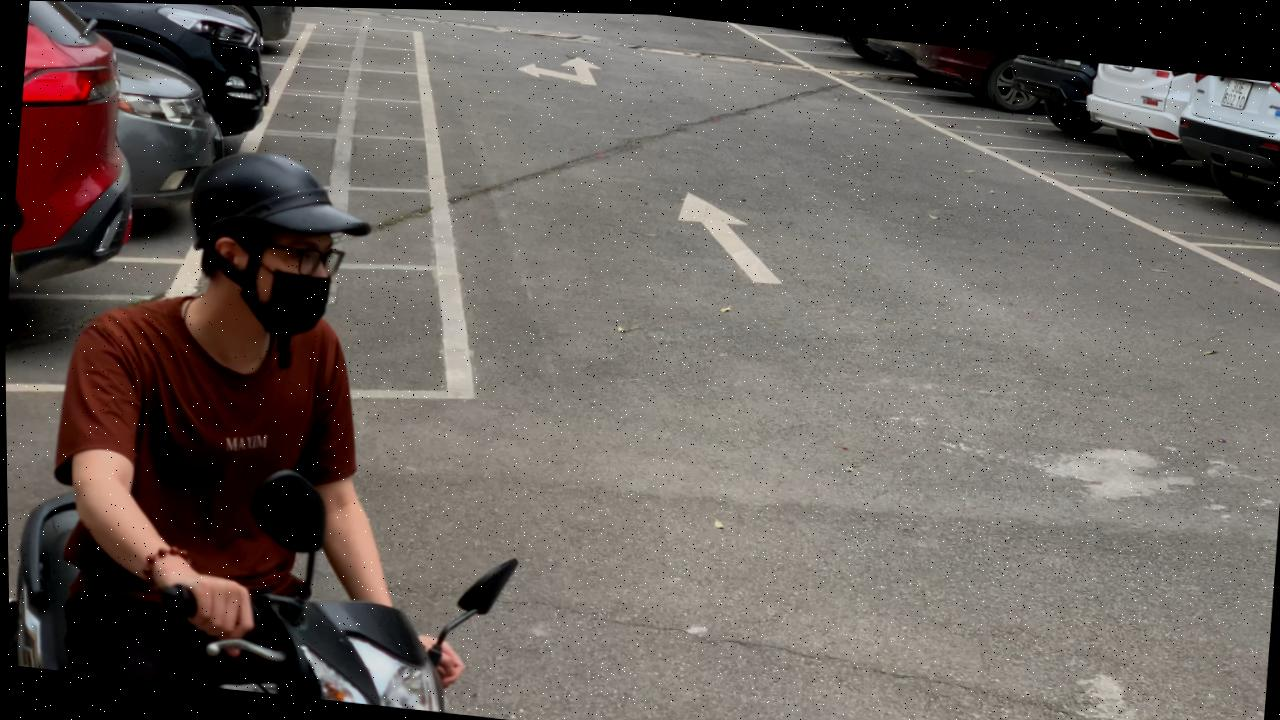helmet: (179, 143, 379, 274)
motorcyclist: (1, 123, 549, 717)
